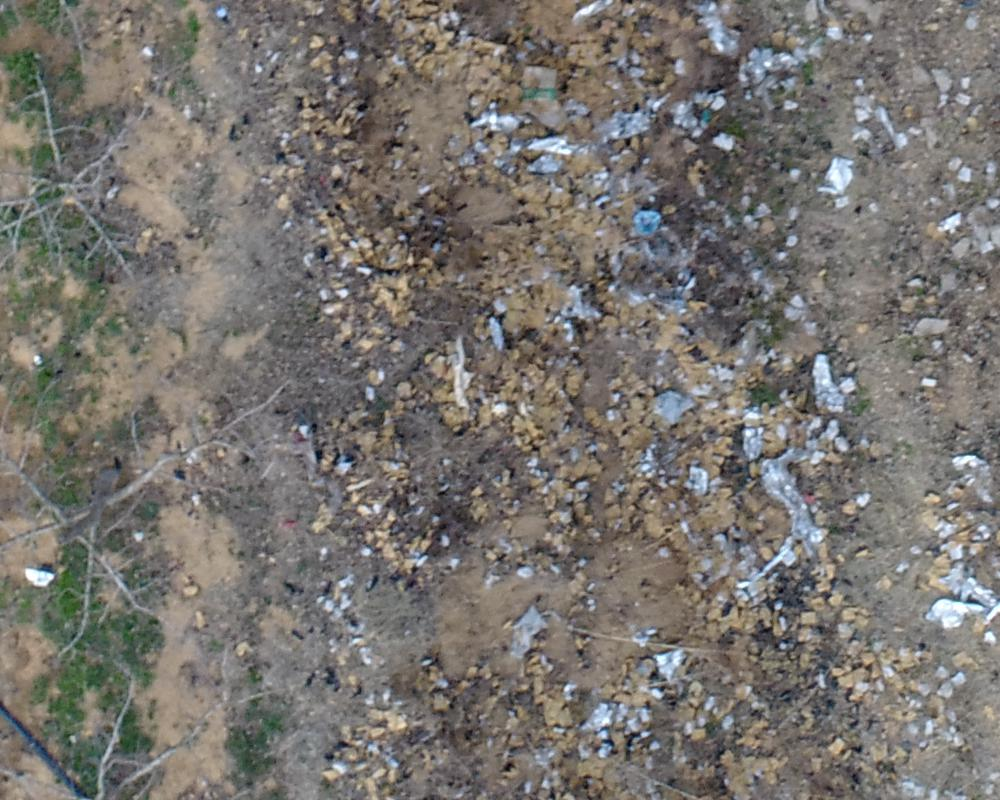apple: (10, 350, 278, 662), (10, 61, 214, 289)
